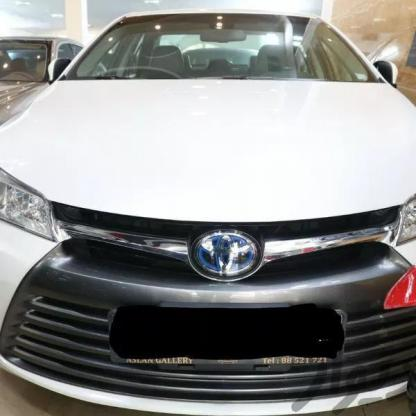Car: (0, 0, 416, 416), (0, 29, 102, 135)
